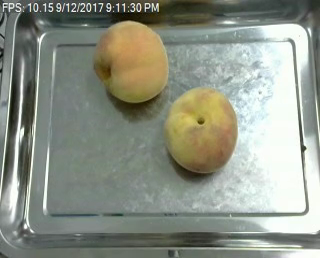Peach: (164, 86, 238, 174), (93, 20, 169, 103)
